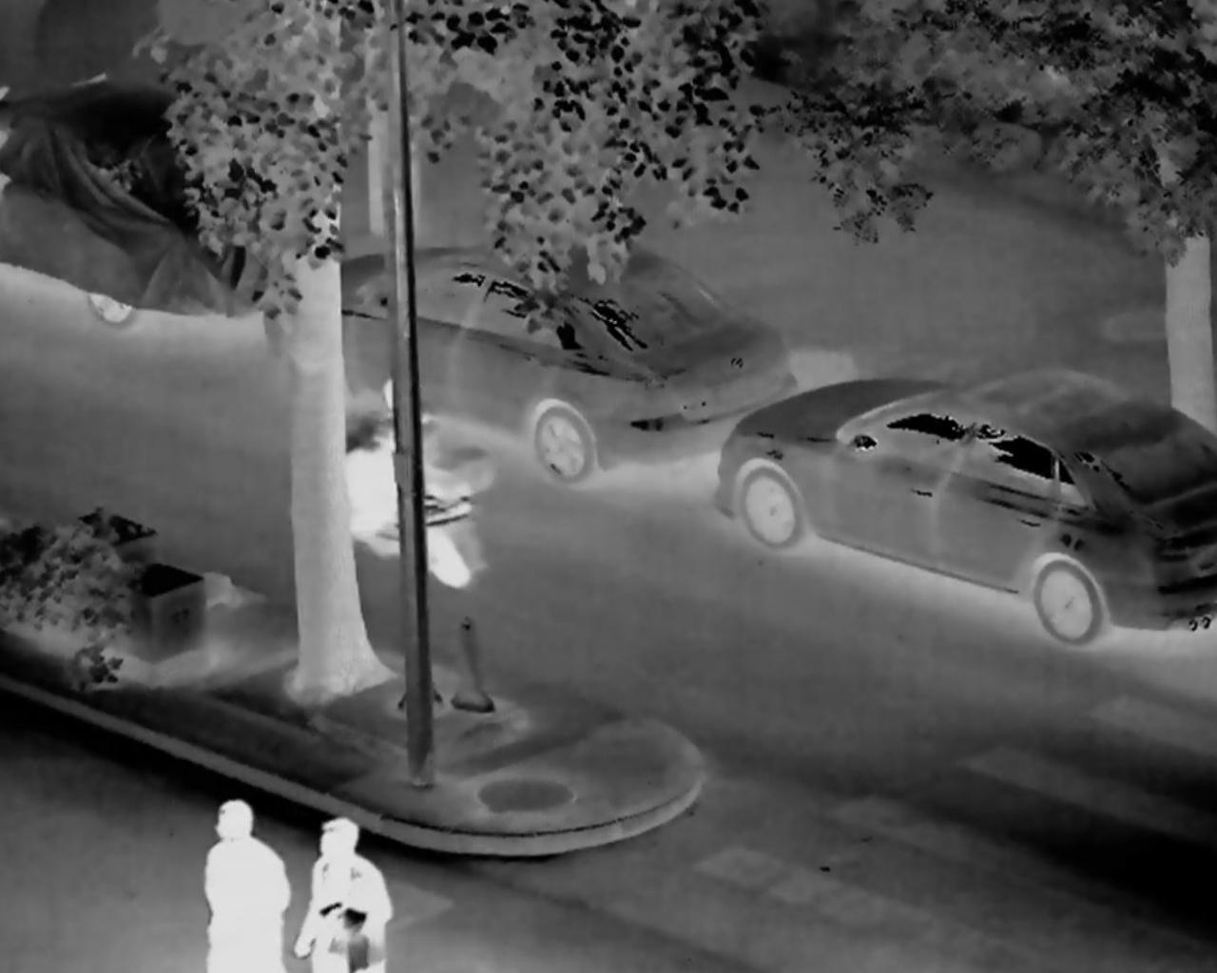person: (357, 354, 459, 551), (278, 798, 381, 973), (205, 793, 300, 973)
